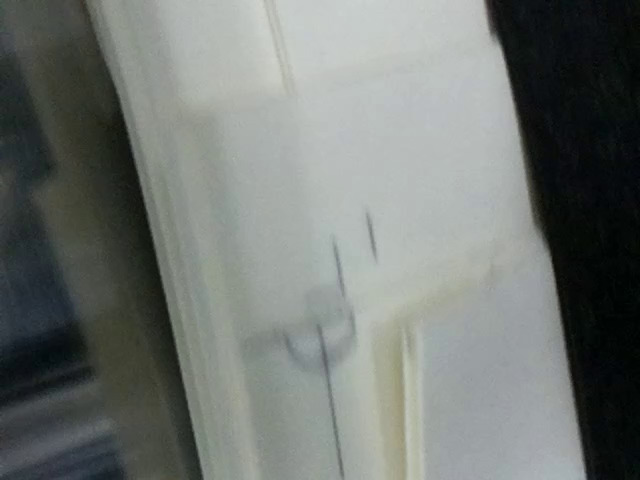not_sure: (231, 234, 366, 374)
